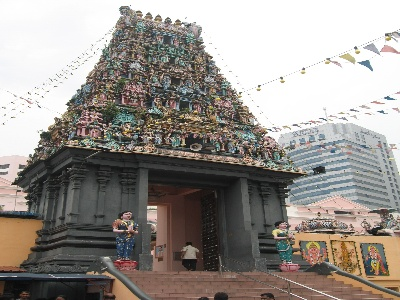gopura: (64, 4, 295, 171)
